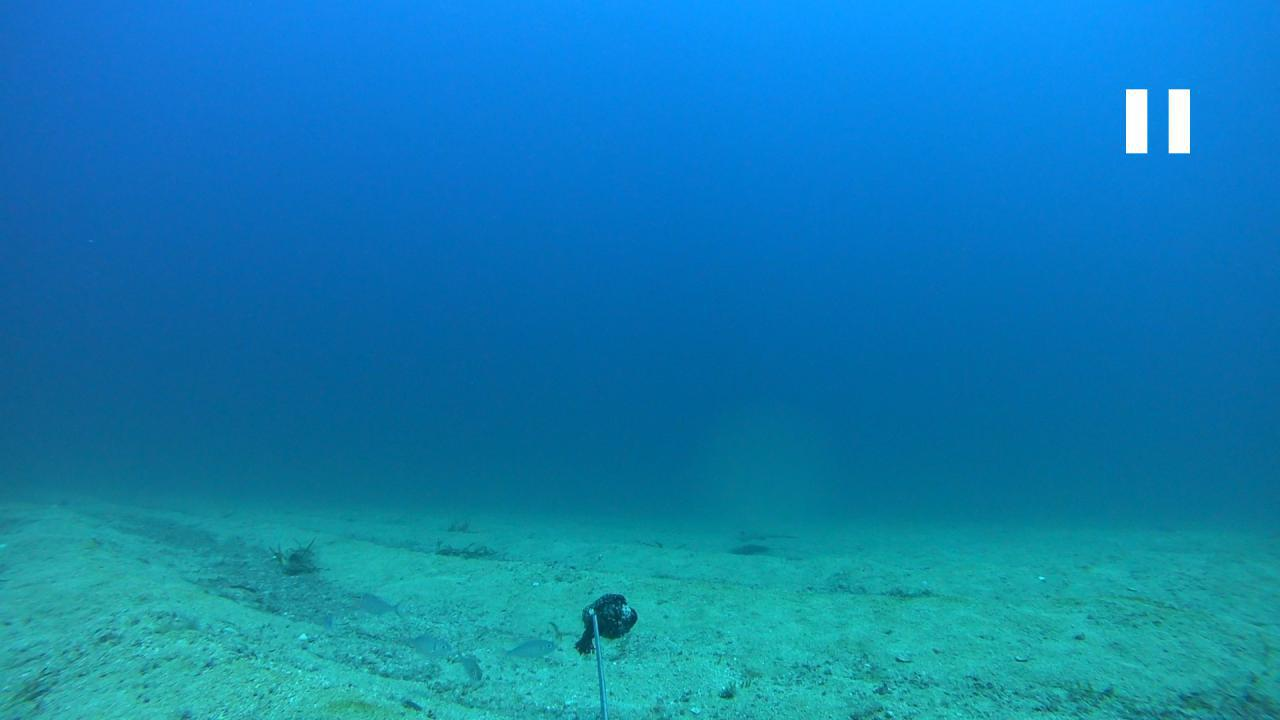dasyatis: (732, 528, 801, 544)
pagellus: (402, 631, 452, 658), (358, 595, 404, 619), (505, 639, 559, 659), (457, 654, 484, 686)
